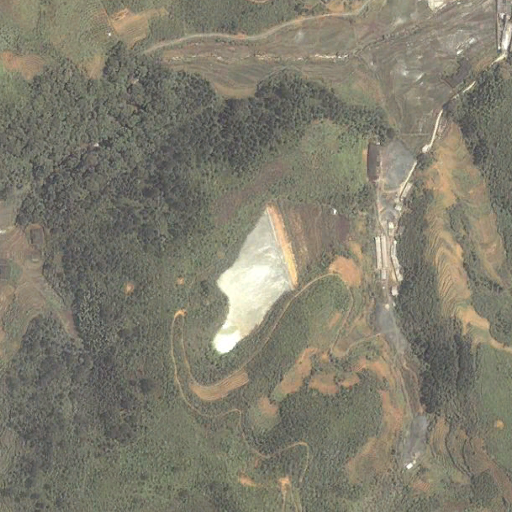tp: (211, 198, 350, 354)
